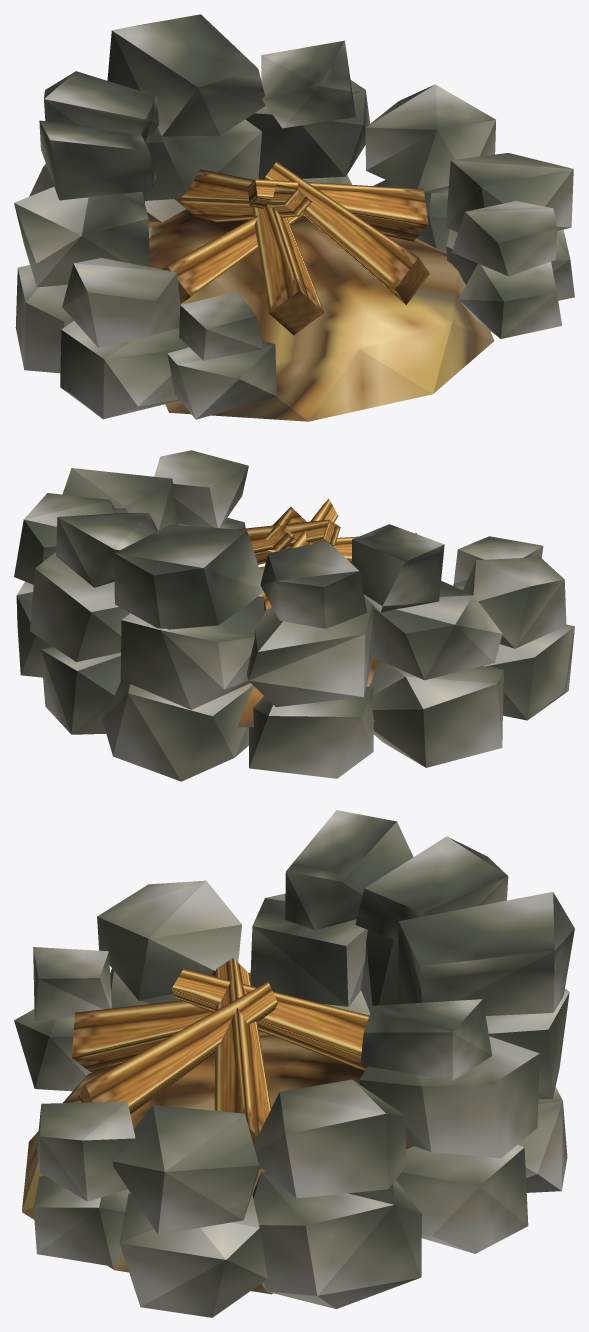
Rendered from Poly_Fire_Camp_02.obj.
The picture shows the model from 3 angles, top to bottom: view 1: azimuth 30°, elevation 25°; view 2: azimuth 150°, elevation 25°; view 3: azimuth 270°, elevation 25°; orthographic projection. The views are drawn at different scales.
Visible parts, largest first — view 1: Cube.009, Icosphere, Cube; view 2: Cube.009, Cube, Icosphere; view 3: Cube.009, Cube, Icosphere.
Boxes of the visible parts, bbox=[...] form: Cube.009: bbox=[14, 14, 574, 419]; Icosphere: bbox=[148, 209, 494, 421]; Cube: bbox=[162, 161, 429, 335]; Cube.009: bbox=[14, 450, 574, 781]; Cube: bbox=[237, 499, 416, 609]; Icosphere: bbox=[237, 566, 378, 727]; Cube.009: bbox=[14, 810, 574, 1317]; Cube: bbox=[71, 958, 368, 1169]; Icosphere: bbox=[22, 1031, 413, 1294].
Bounding box in the file's own units: 1.04 × 0.437 × 0.8328.
Materials: 1 (1 with a texture image).
